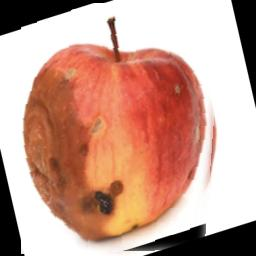Apple Rotten: (22, 4, 224, 256)
